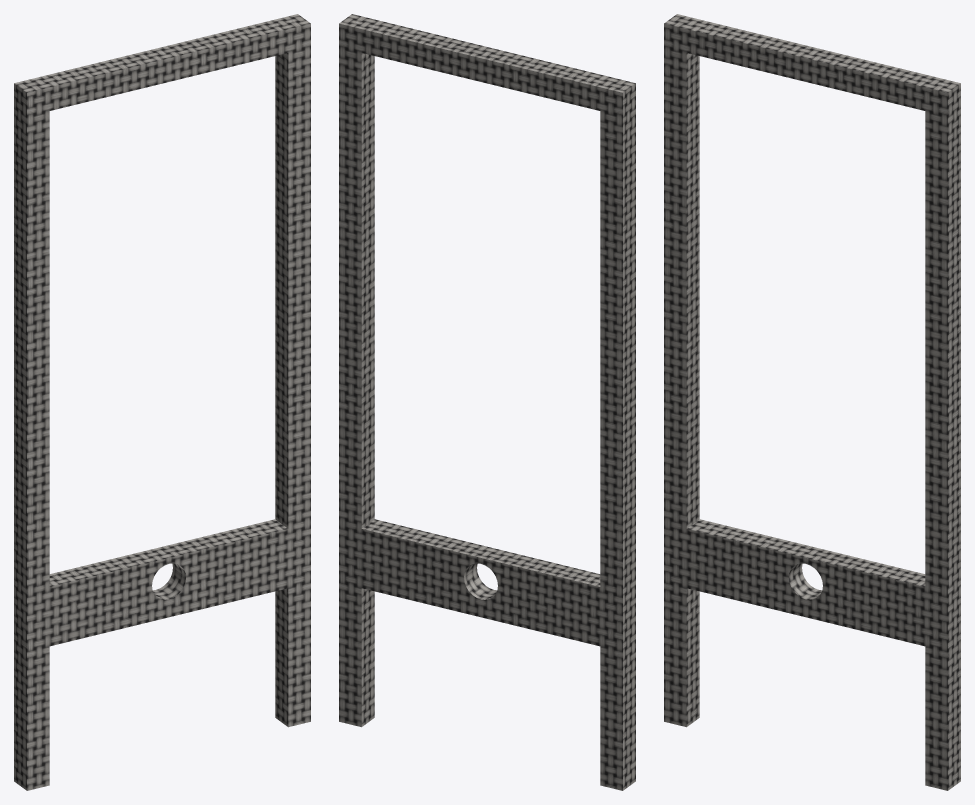
3 views of the same model, side by side, from view 1: azimuth 30°, elevation 25°; view 2: azimuth 150°, elevation 25°; view 3: azimuth 330°, elevation 25° (orthographic).
Bounding box in the file's own units: 0.5 × 1.18 × 0.04.
Materials: 1 (1 with a texture image).
